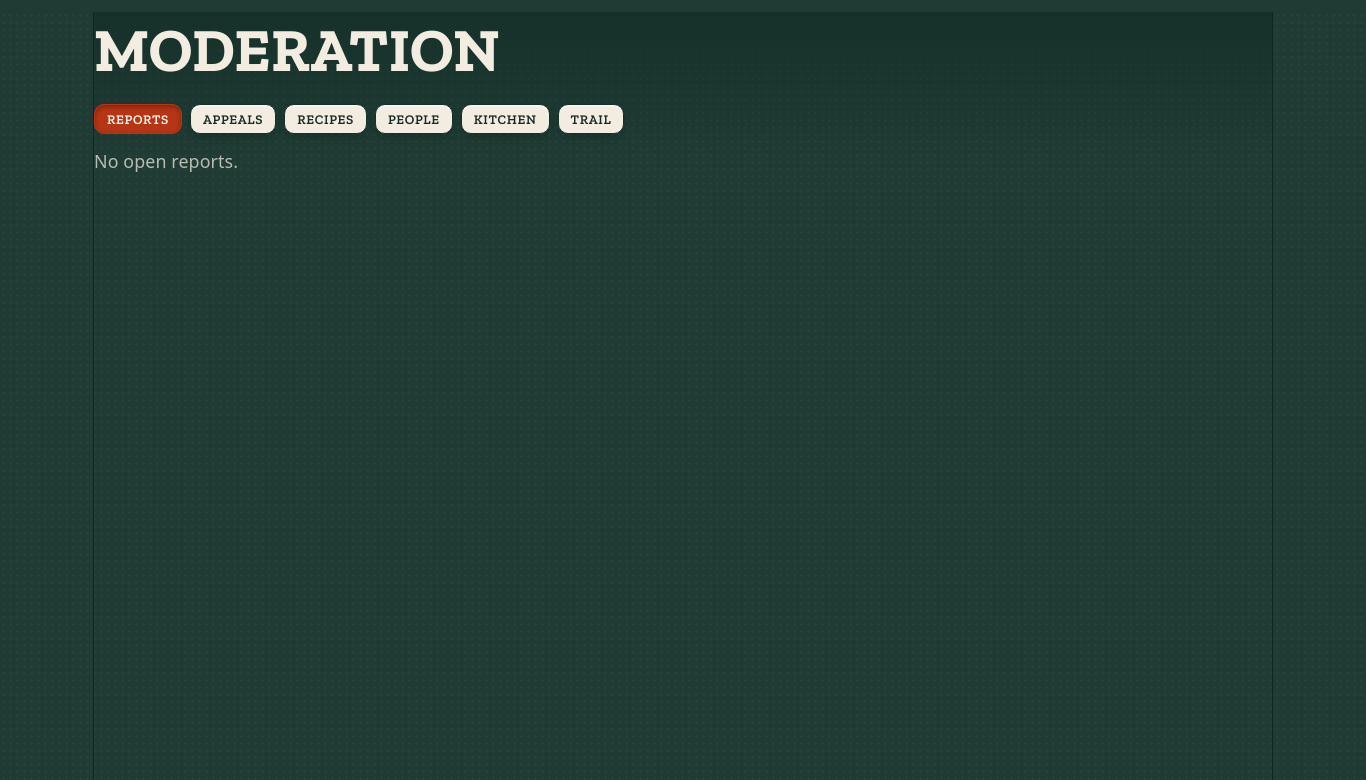
Test case: lists an open appeal with the cook, the subject and their words
This screenshot has width=1366, height=780.
Click the button "Appeals" at (233, 119), box 190,104 -> 276,134
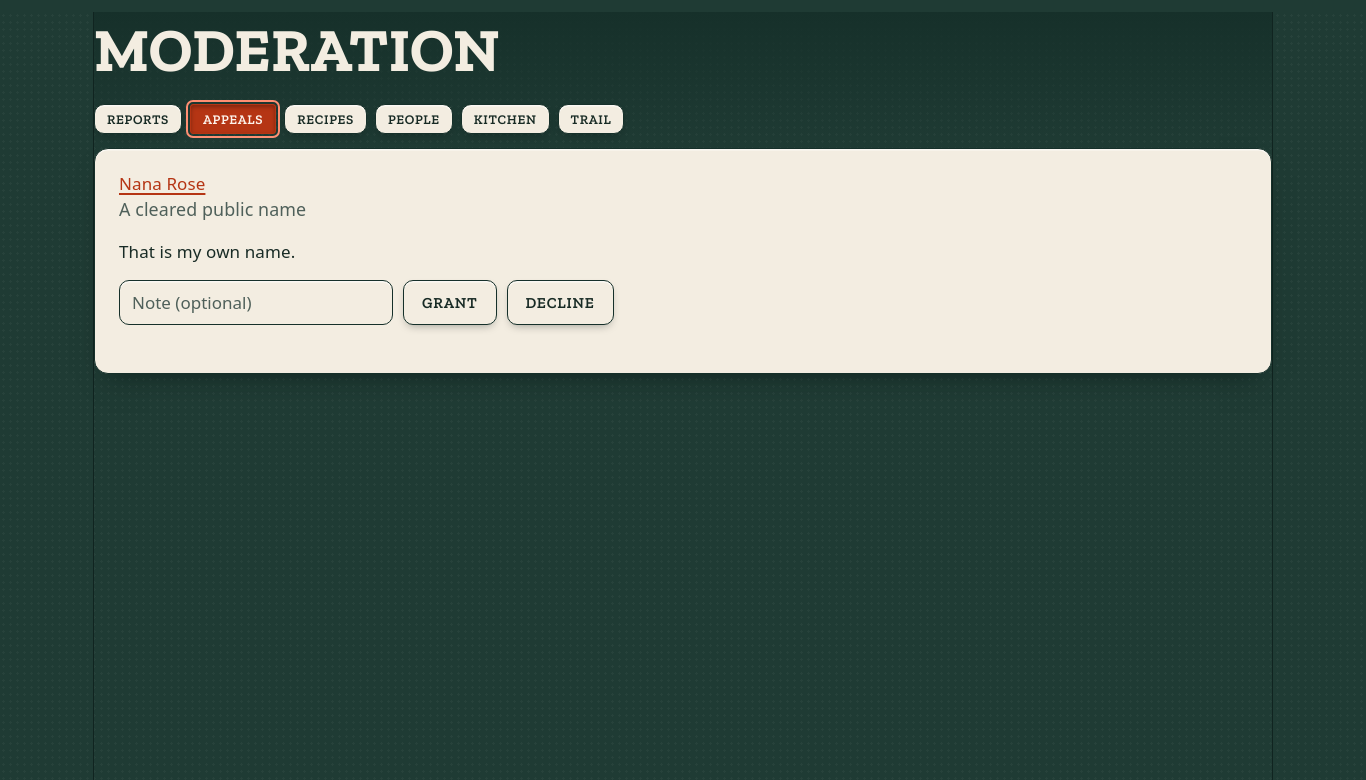
Result: the text "A cleared public name" is shown at 119,197 -> 306,221
Result: the text "That is my own name." is shown at 119,240 -> 295,263
